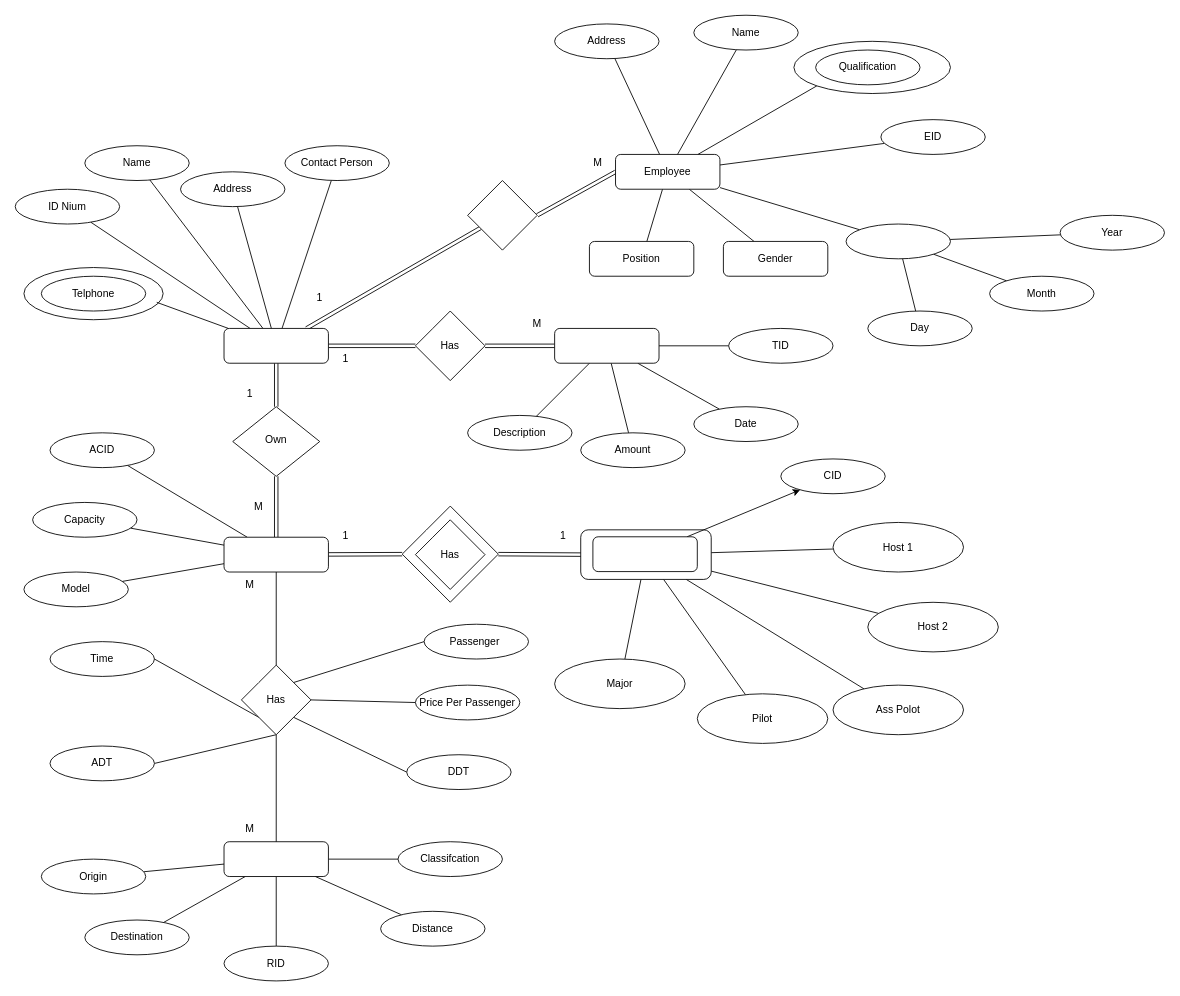
Some shapes in this 1180 by 996 pixel diagram are drawn without their labels. The centre of each missing label's shape, as x and y in pixels:
AirCraft: [275,554]
Airline: [275,345]
Birth: [897,241]
Crew: [644,554]
Route: [275,859]
Transaction: [606,345]
Work: [502,215]
